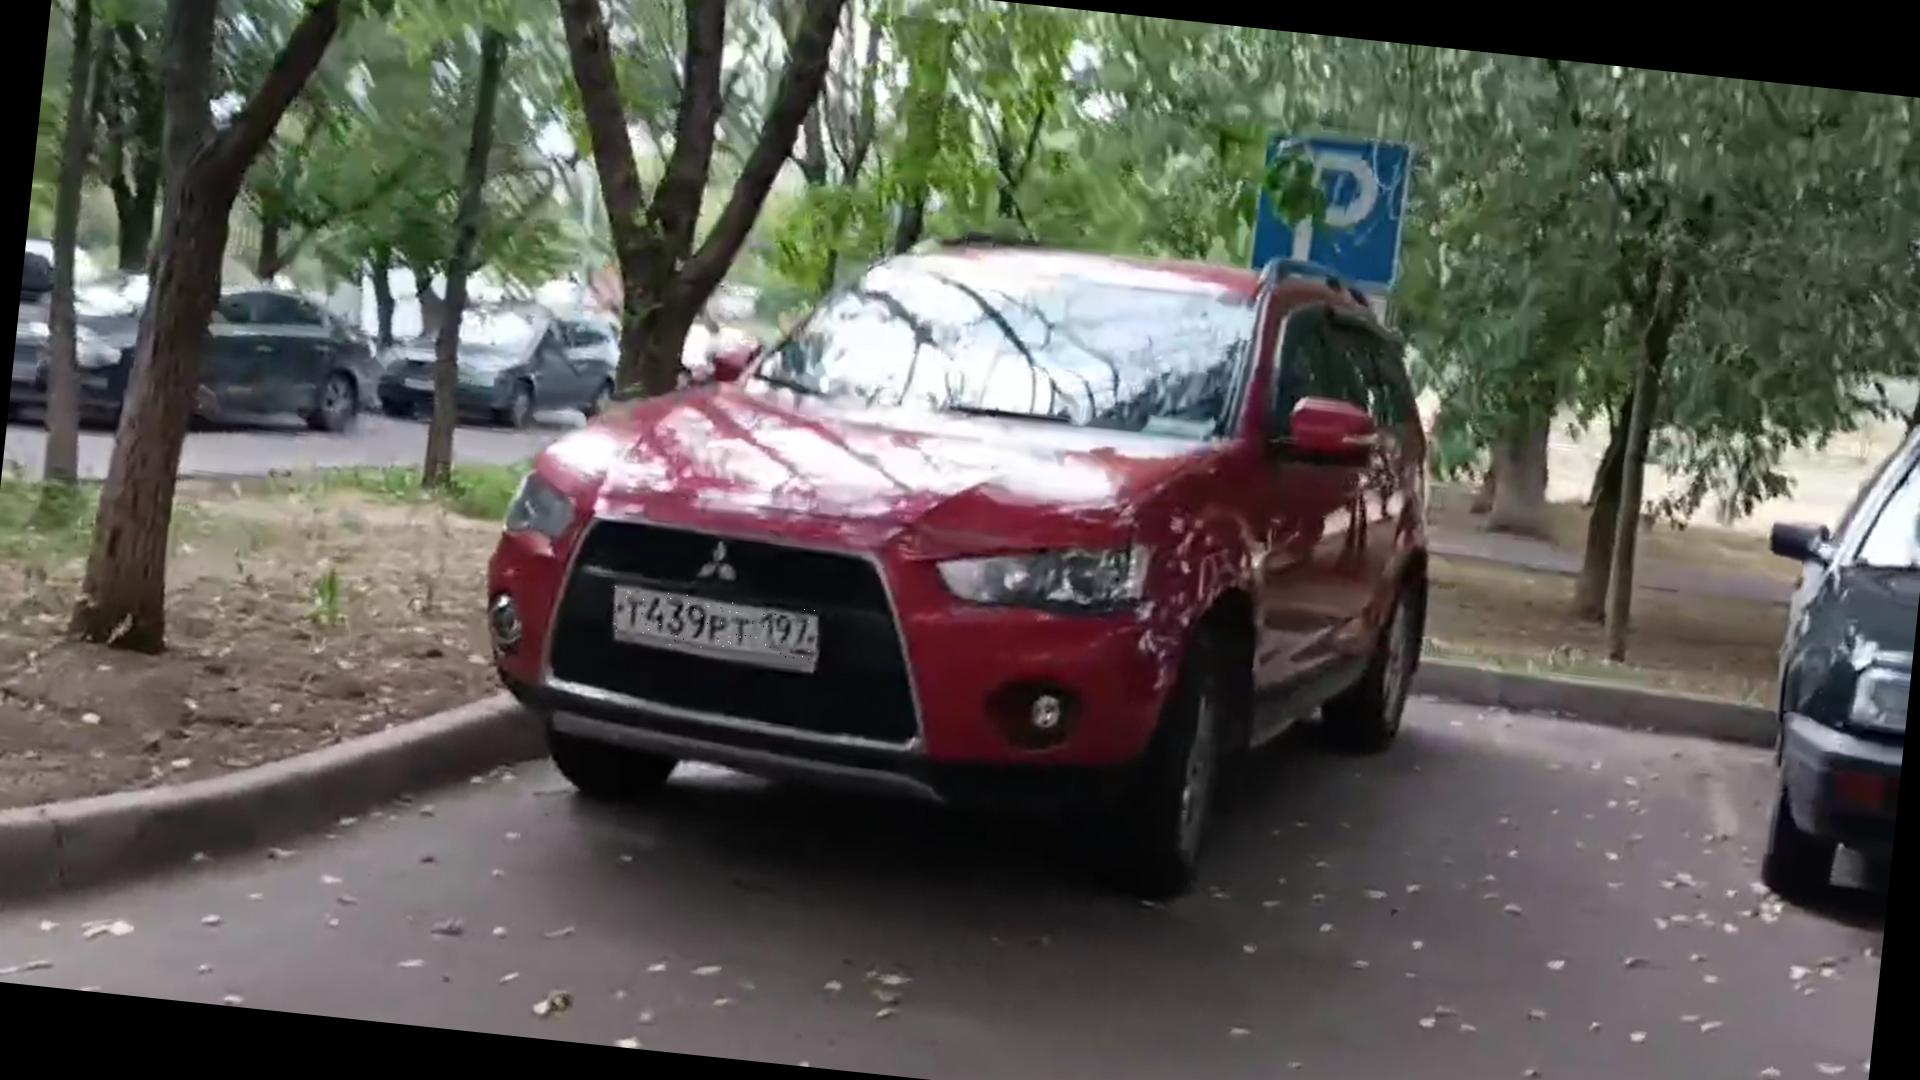plate: (610, 587, 816, 661)
